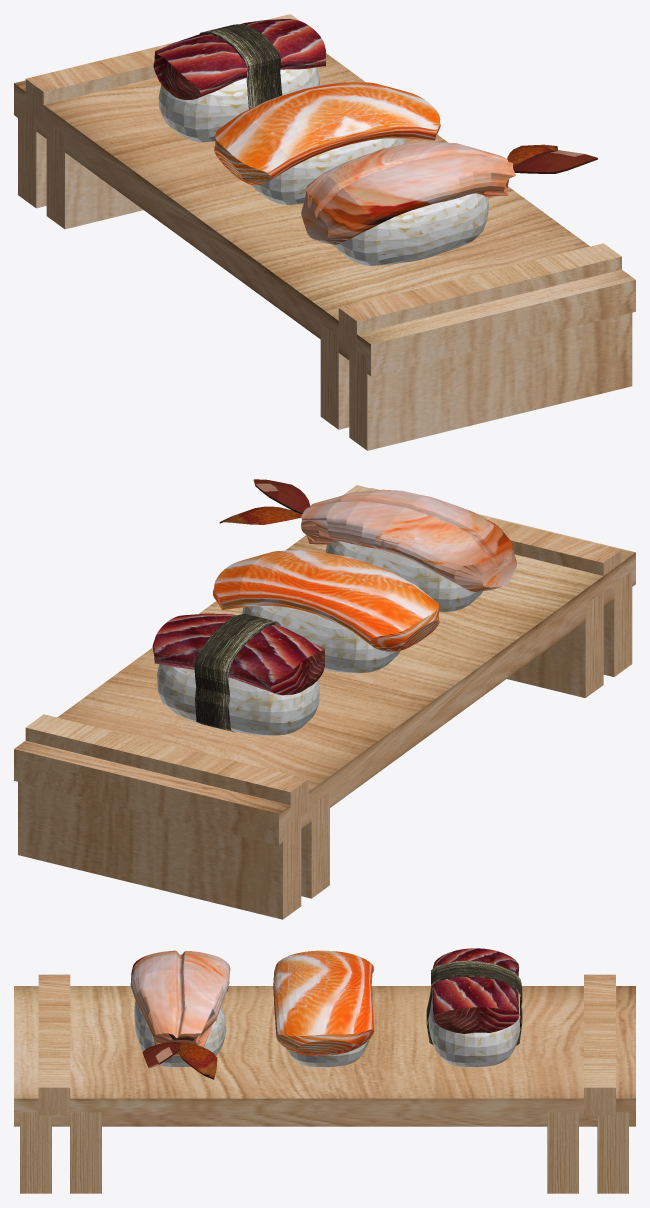
File: daily_model_2025-09-22.glb
3 renders of one model, top to bottom at view 1: azimuth 30°, elevation 25°; view 2: azimuth 150°, elevation 25°; view 3: azimuth 270°, elevation 25°, orthographic. The views are drawn at different scales.
Visible parts, largest first — view 1: Table, Cylinder.001, Cylinder, Cylinder.002, Sphere.001, Sphere.002, Plane, Sphere; view 2: Table, Cylinder.001, Cylinder, Cylinder.002, Sphere.002, Plane, Sphere, Sphere.001; view 3: Table, Cylinder, Cylinder.001, Cylinder.002, Sphere.002, Plane, Sphere.001, Sphere.
Part boxes in pixels (left/top/right/bottom): Table: left=14, top=14, right=635, bottom=450; Cylinder.001: left=301, top=141, right=597, bottom=244; Cylinder: left=214, top=82, right=440, bottom=185; Cylinder.002: left=153, top=19, right=325, bottom=99; Sphere.001: left=333, top=193, right=488, bottom=265; Sphere.002: left=158, top=67, right=319, bottom=142; Plane: left=199, top=24, right=282, bottom=109; Sphere: left=251, top=138, right=405, bottom=204; Table: left=14, top=485, right=635, bottom=919; Cylinder.001: left=219, top=479, right=516, bottom=591; Cylinder: left=213, top=550, right=439, bottom=651; Cylinder.002: left=152, top=613, right=324, bottom=695; Sphere.002: left=157, top=664, right=319, bottom=735; Plane: left=194, top=613, right=280, bottom=732; Sphere: left=242, top=606, right=400, bottom=673; Sphere.001: left=325, top=541, right=482, bottom=612; Table: left=14, top=974, right=635, bottom=1193; Cylinder: left=273, top=950, right=374, bottom=1055; Cylinder.001: left=130, top=950, right=230, bottom=1079; Cylinder.002: left=432, top=948, right=519, bottom=1033; Sphere.002: left=428, top=990, right=520, bottom=1067; Plane: left=426, top=961, right=522, bottom=1045; Sphere.001: left=134, top=1000, right=226, bottom=1067; Sphere: left=286, top=1040, right=369, bottom=1067.
Size of the model in its own units: 6.22 by 3.79 by 12.62.
Materials: 6 (6 with a texture image).
